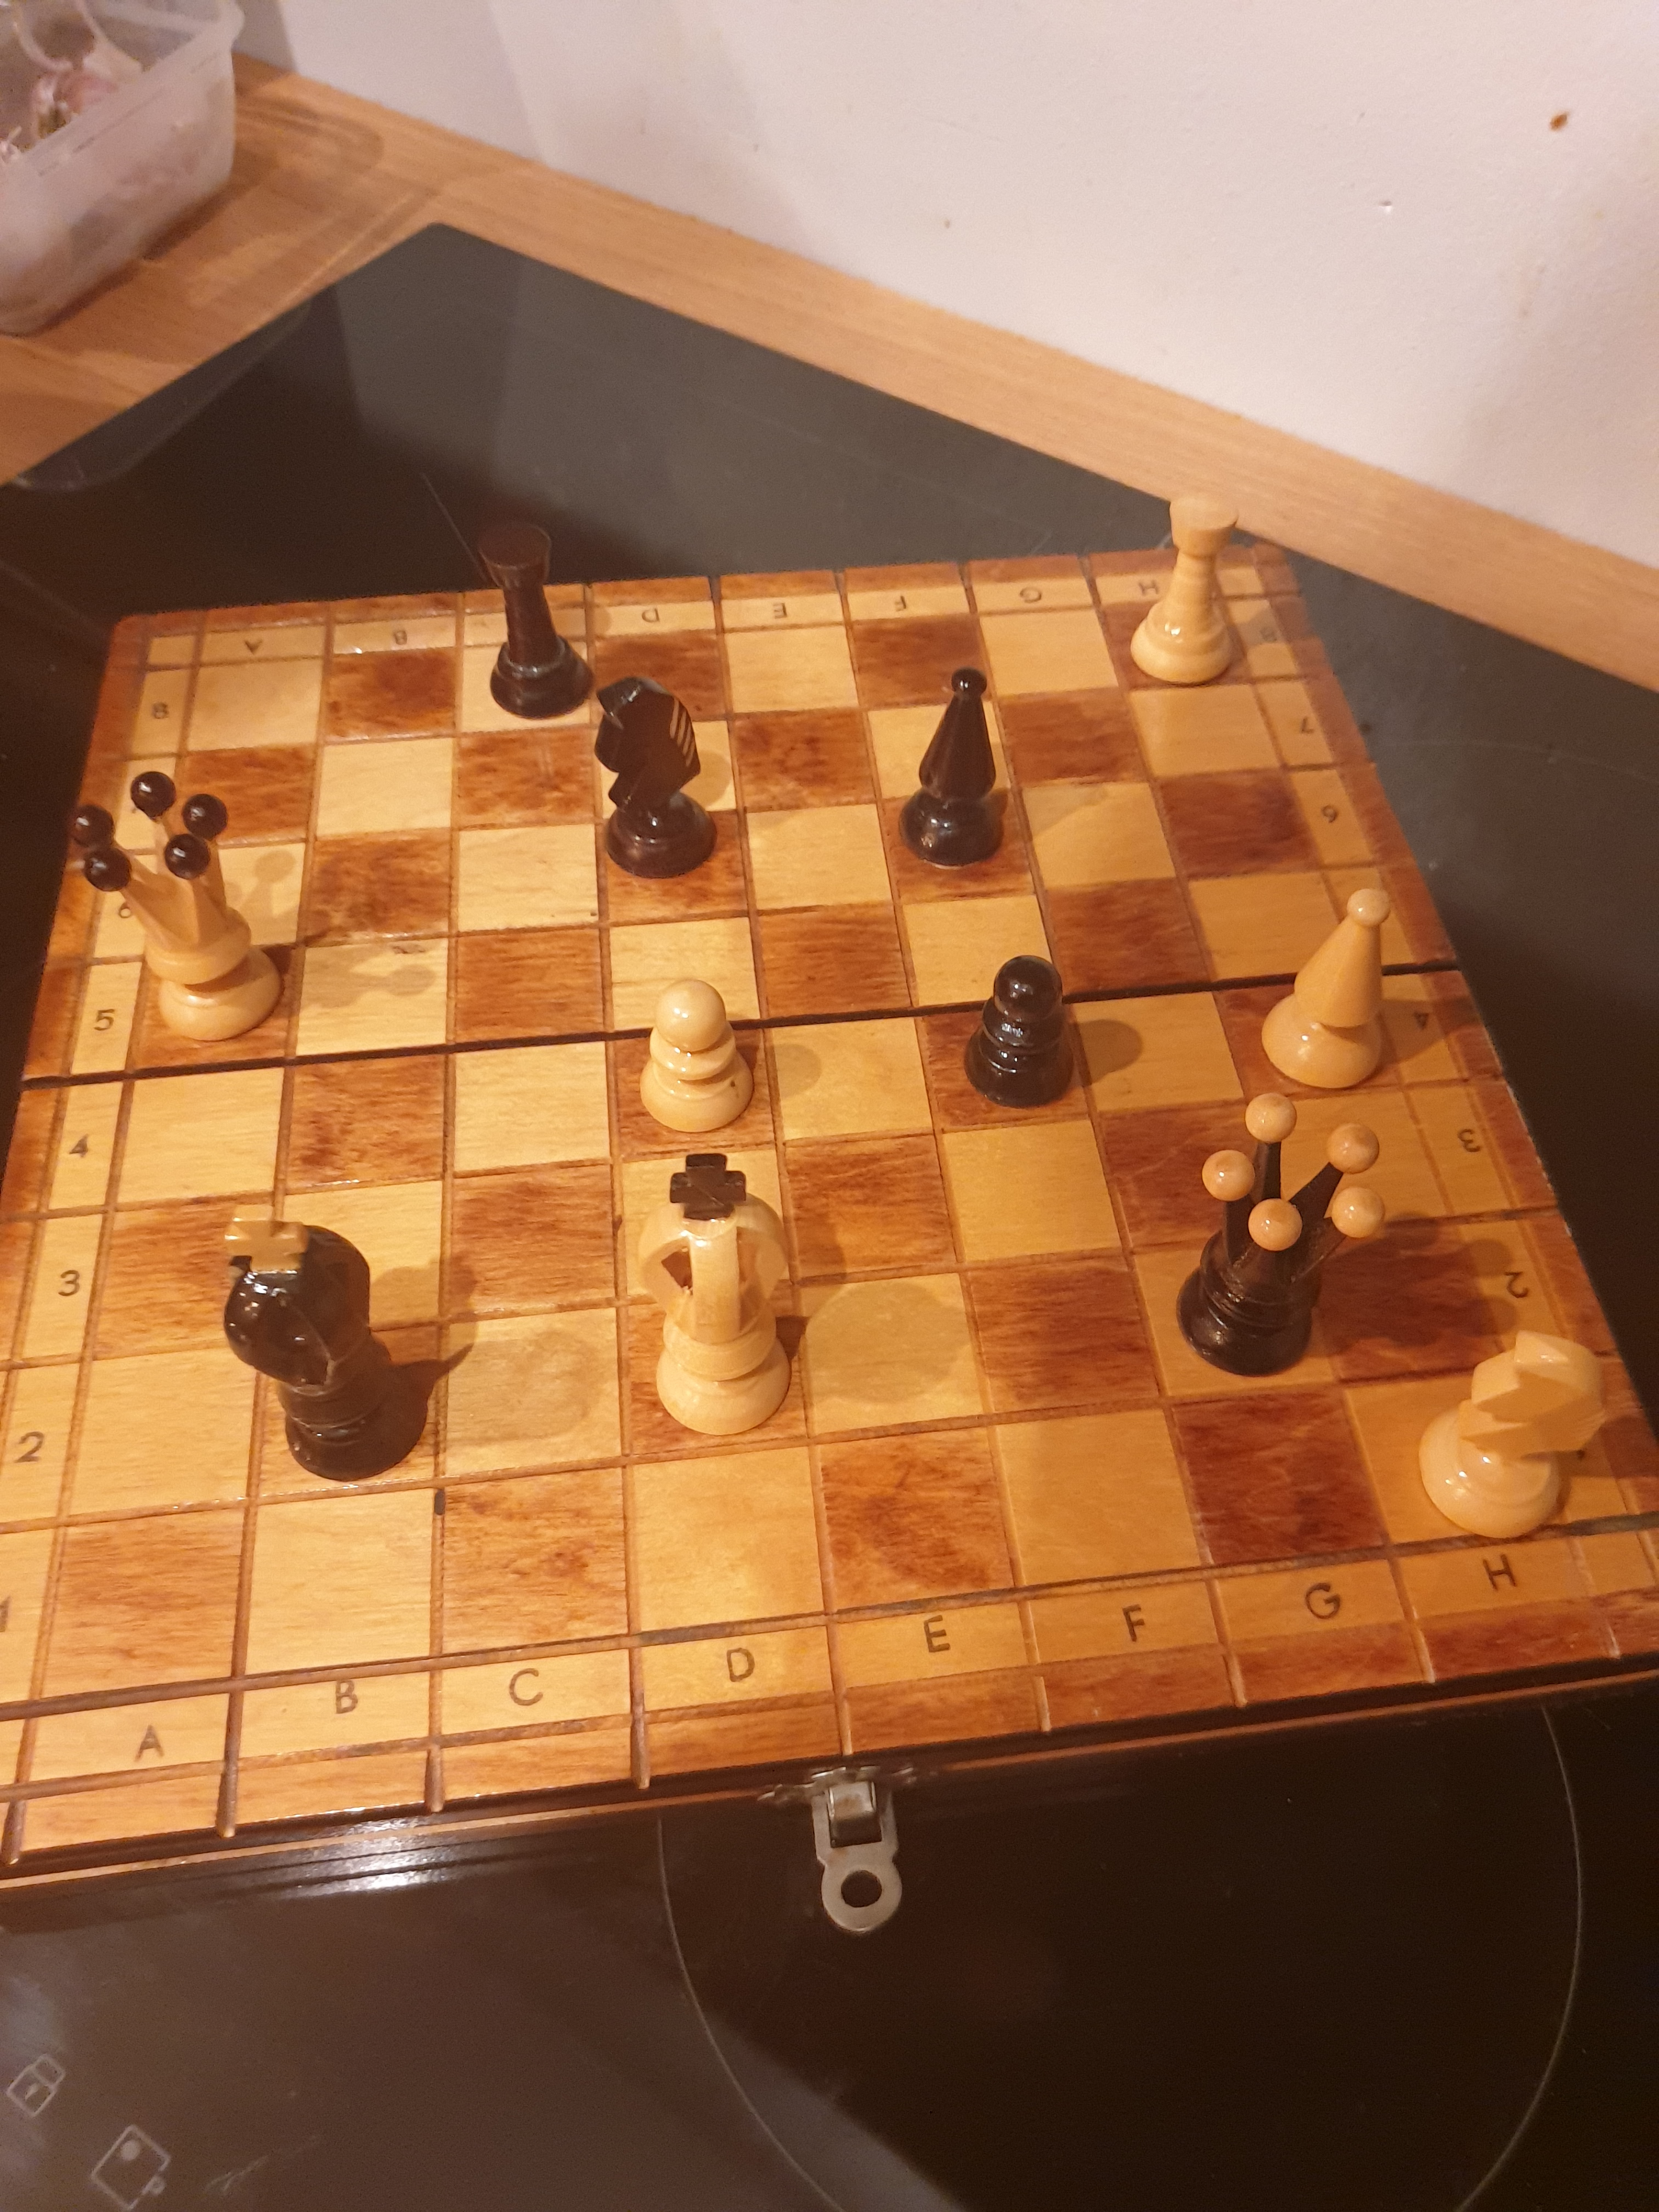bbishop: (890, 651, 1014, 897)
bking: (206, 1188, 434, 1508)
bknight: (575, 671, 742, 885)
bpawn: (946, 939, 1087, 1122)
bqueen: (1164, 1089, 1392, 1397)
brook: (462, 510, 603, 732)
wbishop: (1249, 867, 1408, 1115)
wking: (620, 1141, 821, 1460)
wknight: (1413, 1320, 1617, 1554)
wpawn: (627, 972, 765, 1139)
wqueen: (64, 761, 295, 1055)
wrook: (1117, 482, 1251, 695)
